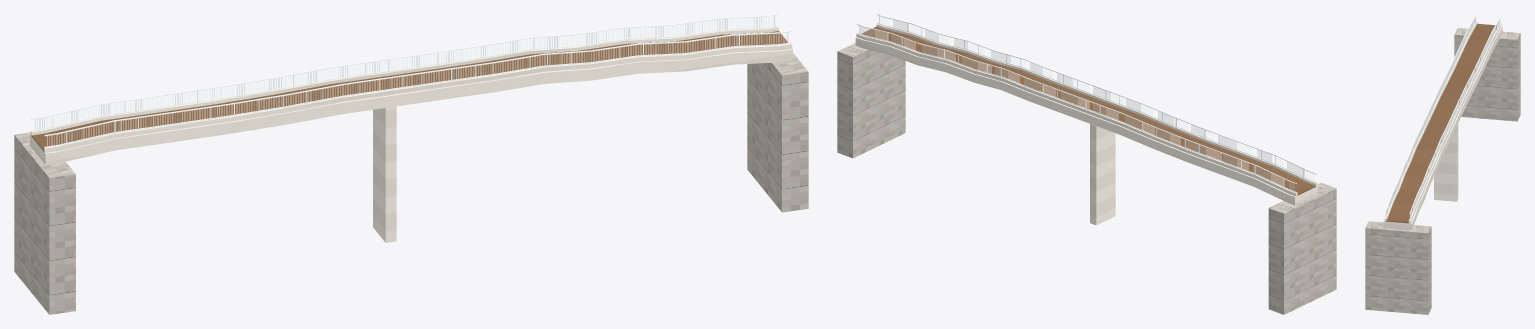
The model's file is footbridge-1.glb.
3 views of the same model, side by side, from view 1: azimuth 30°, elevation 25°; view 2: azimuth 150°, elevation 25°; view 3: azimuth 270°, elevation 25° (orthographic). The views are drawn at different scales.
Parts seen in each view (by area): view 1: DeckSlab, Abutment, TopRail, Surface; view 2: Abutment, DeckSlab, TopRail, Surface; view 3: Abutment, Surface, DeckSlab, TopRail.
Boxes of the visible parts, x1,y1,x2,y2 form: DeckSlab: (30, 27, 792, 242); Abutment: (14, 53, 808, 314); TopRail: (31, 14, 791, 147); Surface: (31, 31, 787, 151); Abutment: (837, 26, 1336, 314); DeckSlab: (855, 23, 1318, 225); TopRail: (857, 14, 1316, 192); Surface: (861, 26, 1315, 195); Abutment: (1365, 28, 1520, 314); Surface: (1386, 23, 1496, 223); DeckSlab: (1383, 21, 1502, 230); TopRail: (1385, 14, 1500, 220).
Size of the model in its own units: 63.6 by 15.48 by 20.53.
Materials: 5 (3 with a texture image).
